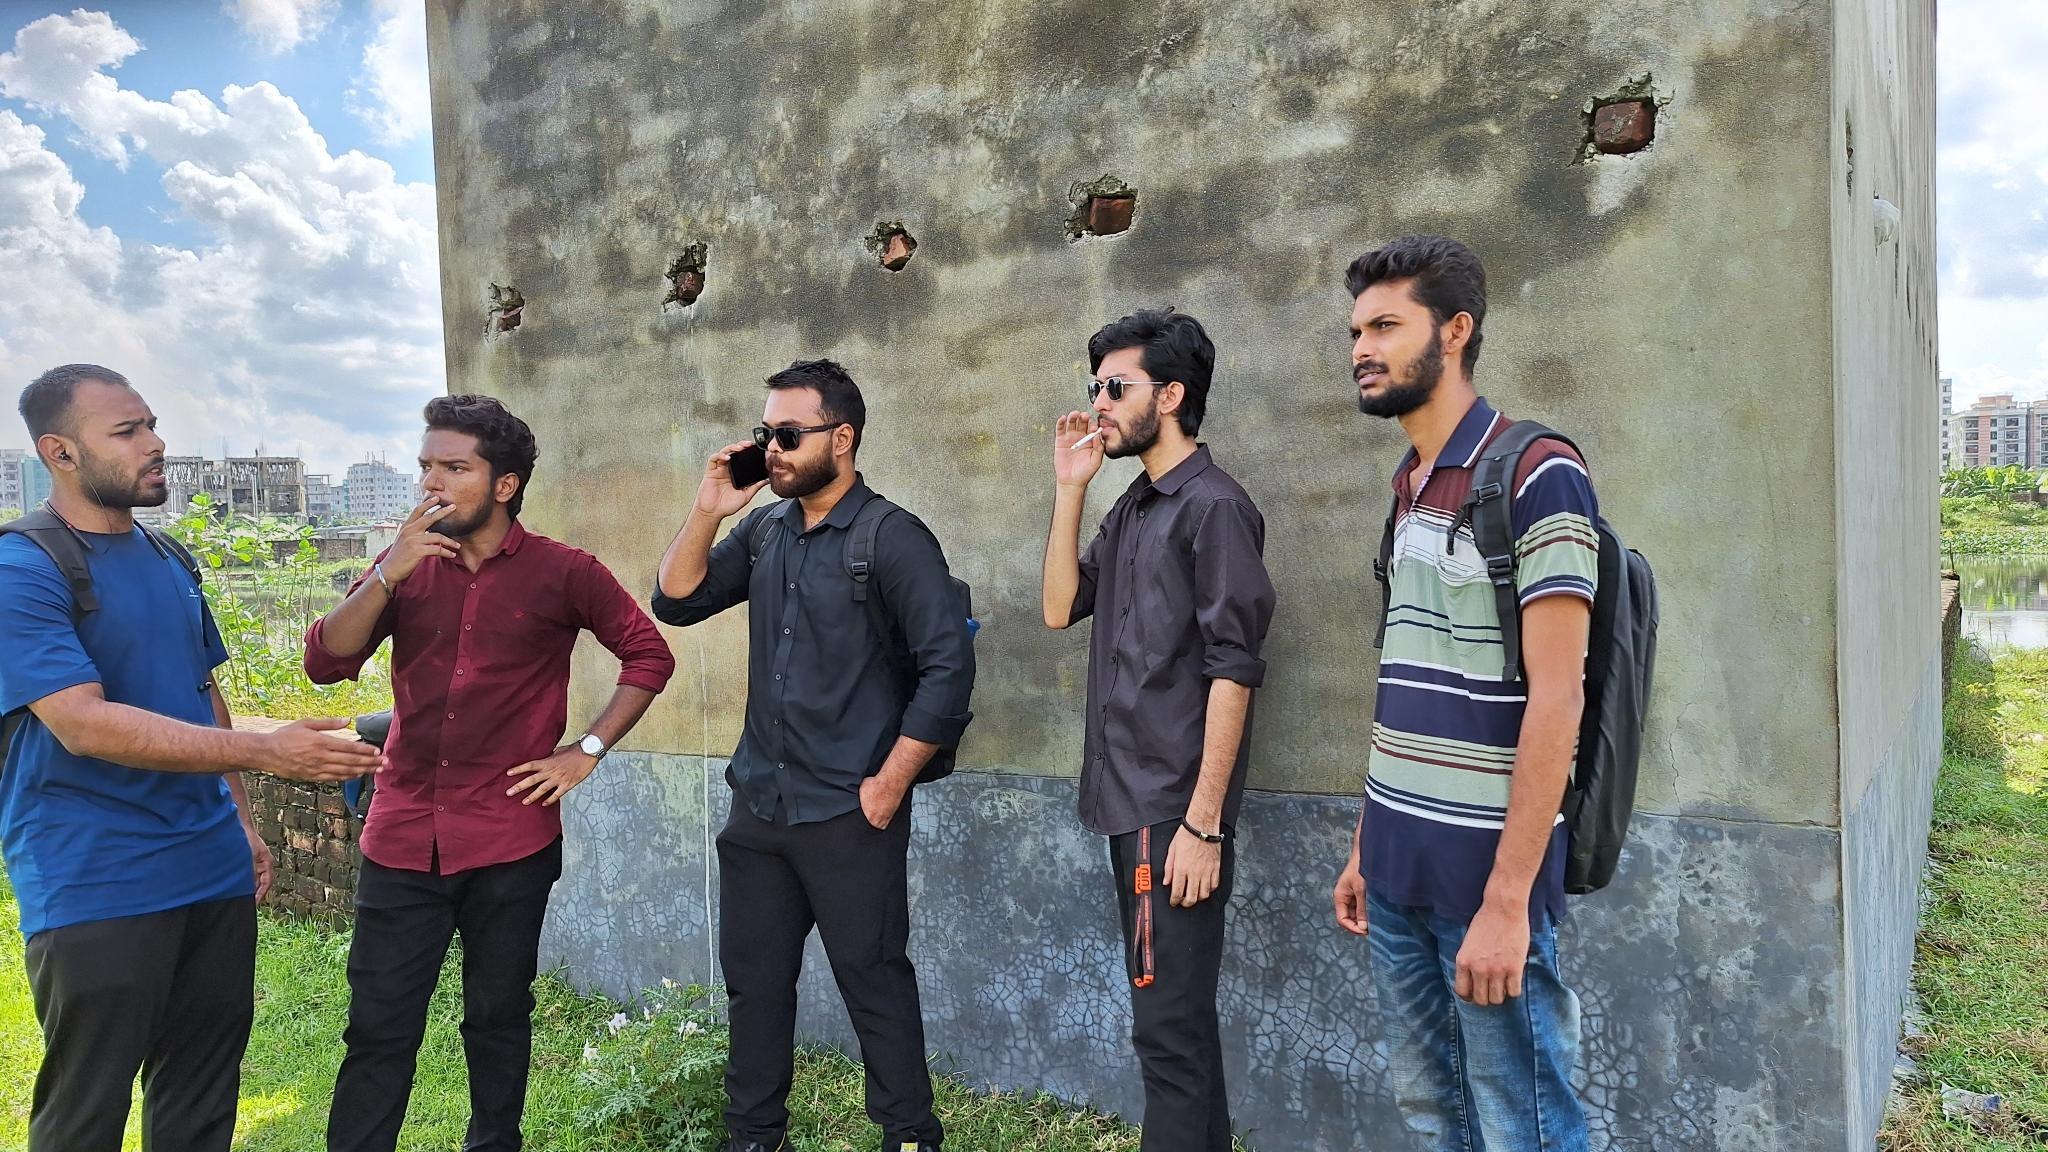cigarette: (1069, 426, 1106, 453), (421, 504, 443, 519)
nonSmoker: (0, 363, 390, 1152), (1329, 236, 1661, 1152), (648, 359, 978, 1152)
smoker: (295, 390, 671, 1152), (1048, 304, 1277, 1152)
